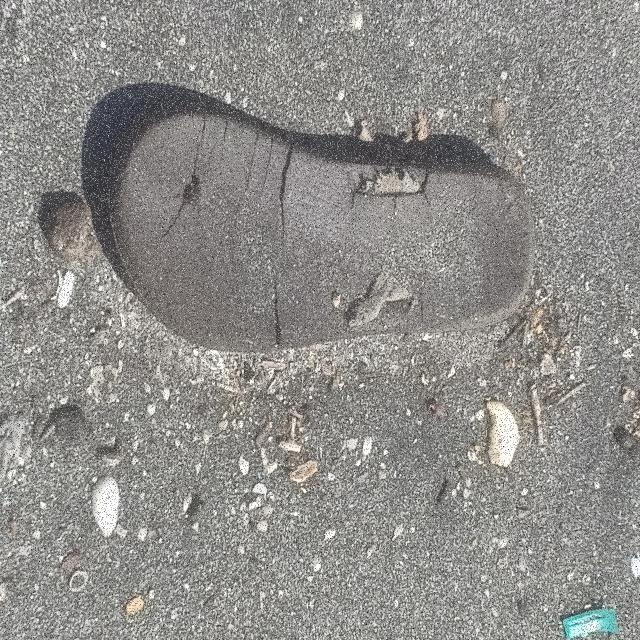rubber_waste: (106, 102, 538, 357)
